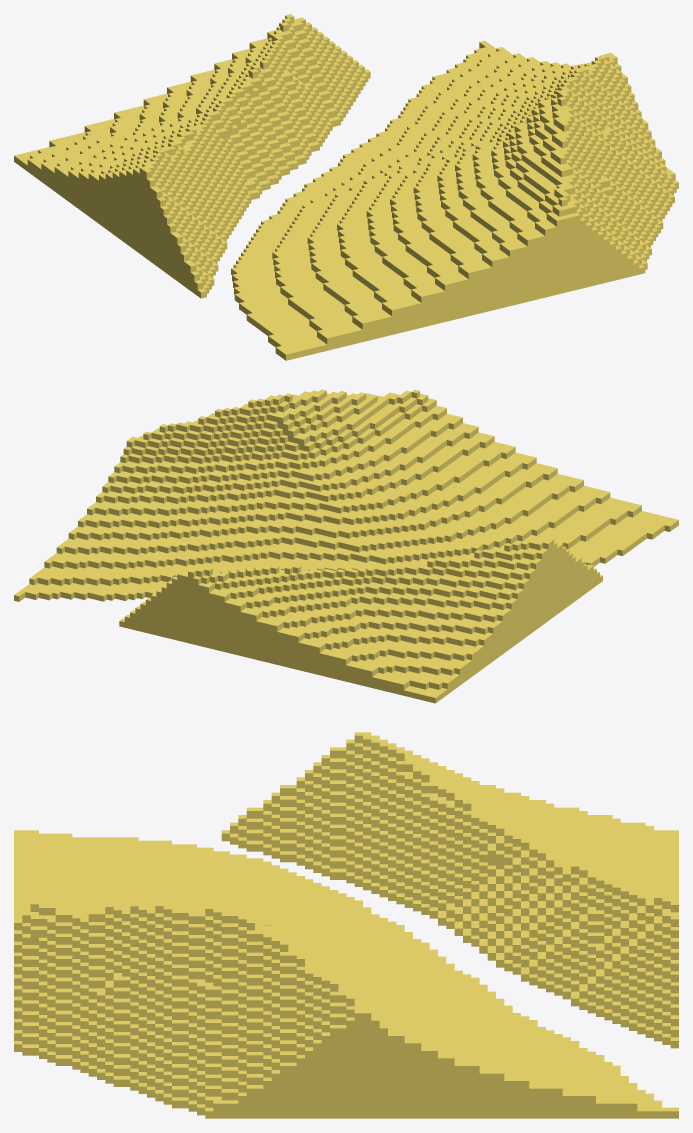
File: dunes_4_overtile.obj
3 views of the same model, one above another, from view 1: azimuth 30°, elevation 25°; view 2: azimuth 150°, elevation 25°; view 3: azimuth 270°, elevation 25° (orthographic). The views are drawn at different scales.
Bounding box in the file's own units: 8 × 1.9 × 8.
1 material, 1 textured.
